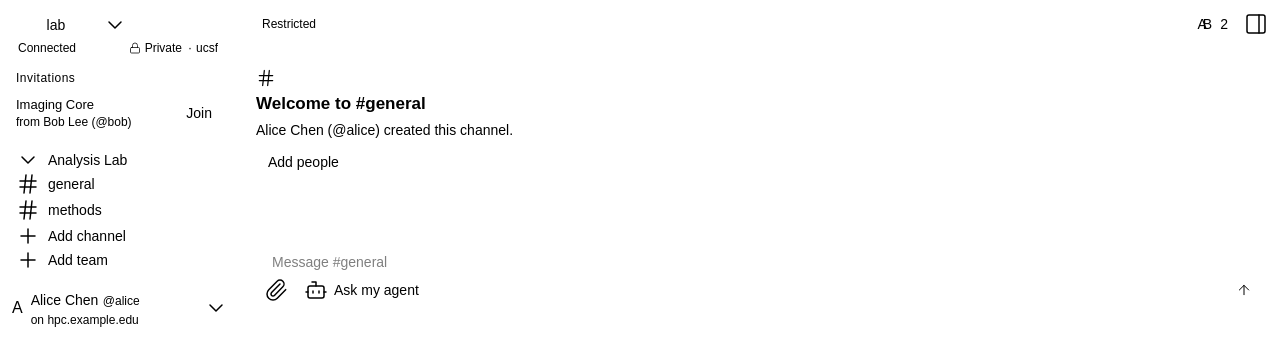
Test: @agent in the composer (OW-10) › renames Send only while the draft starts a task, described by the consent line
The width and height of the screenshot is (1280, 351).
Expected: the button named "Send message" is shown, [1236,282,1252,298]
Step 1. Type "@agent tally the plates" into the text box labelled "Message #general" → (762, 262), box [272,246,1252,278]
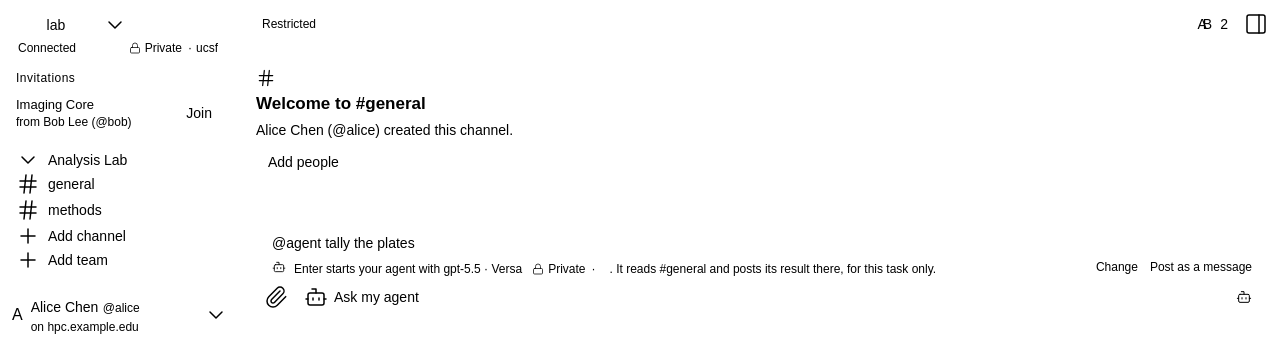
Expected: the element with class "crew-compose-agent" is shown, [272,259,1252,285]
Expected: the number of buttons "Ask my agent" is 1, [292,285,431,309]
Step 2. Replace the text in the text box named "Message #general" with "tally the plates" → (762, 243), box [272,227,1252,259]
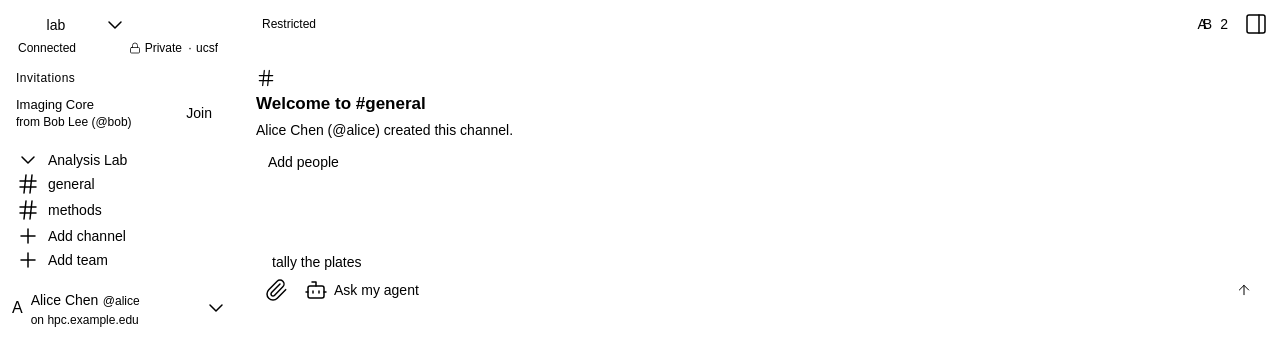
Expected: the element with class "crew-compose-agent" is gone
